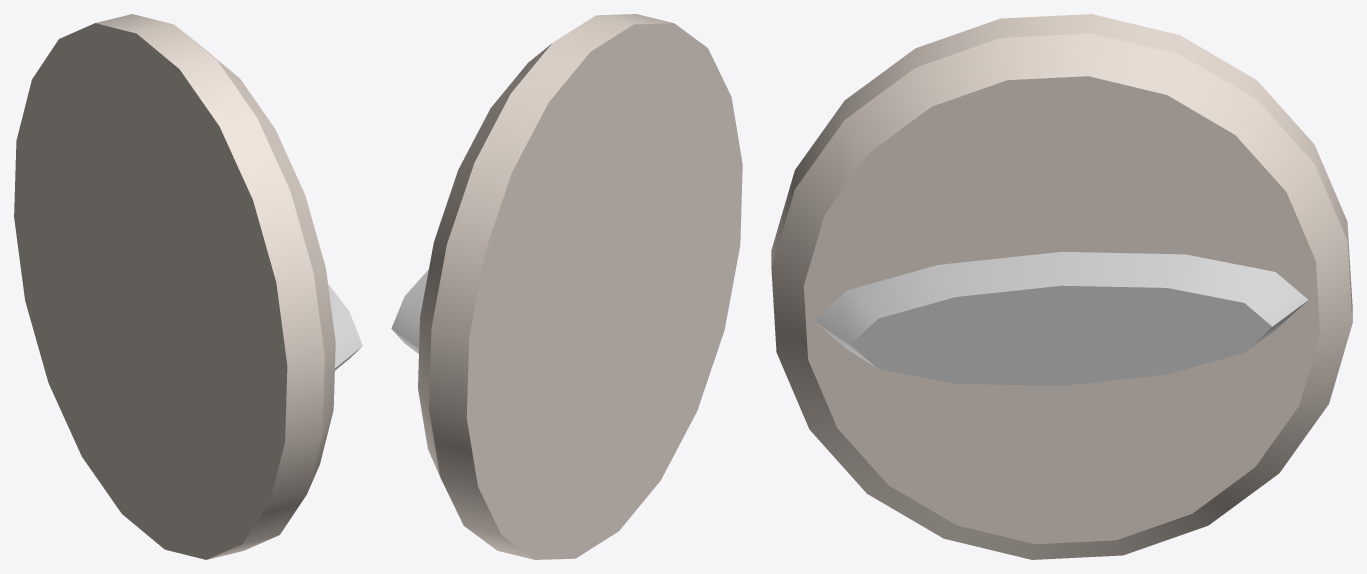
The model's file is StoveKnob_9bf2d921.obj.
3 renders of one model, left to right at view 1: azimuth 30°, elevation 25°; view 2: azimuth 150°, elevation 25°; view 3: azimuth 270°, elevation 25°, orthographic. The views are drawn at different scales.
Parts seen in each view (by area): view 1: StoveKnobTurn2_20633efd; view 2: StoveKnobTurn2_20633efd; view 3: StoveKnobTurn2_20633efd.
Boxes of the visible parts, x1,y1,x2,y2 form: StoveKnobTurn2_20633efd: [14, 14, 362, 559]; StoveKnobTurn2_20633efd: [391, 14, 742, 559]; StoveKnobTurn2_20633efd: [771, 14, 1352, 559].
Size of the model in its own units: 0.0133 by 0.0558 by 0.0558.
